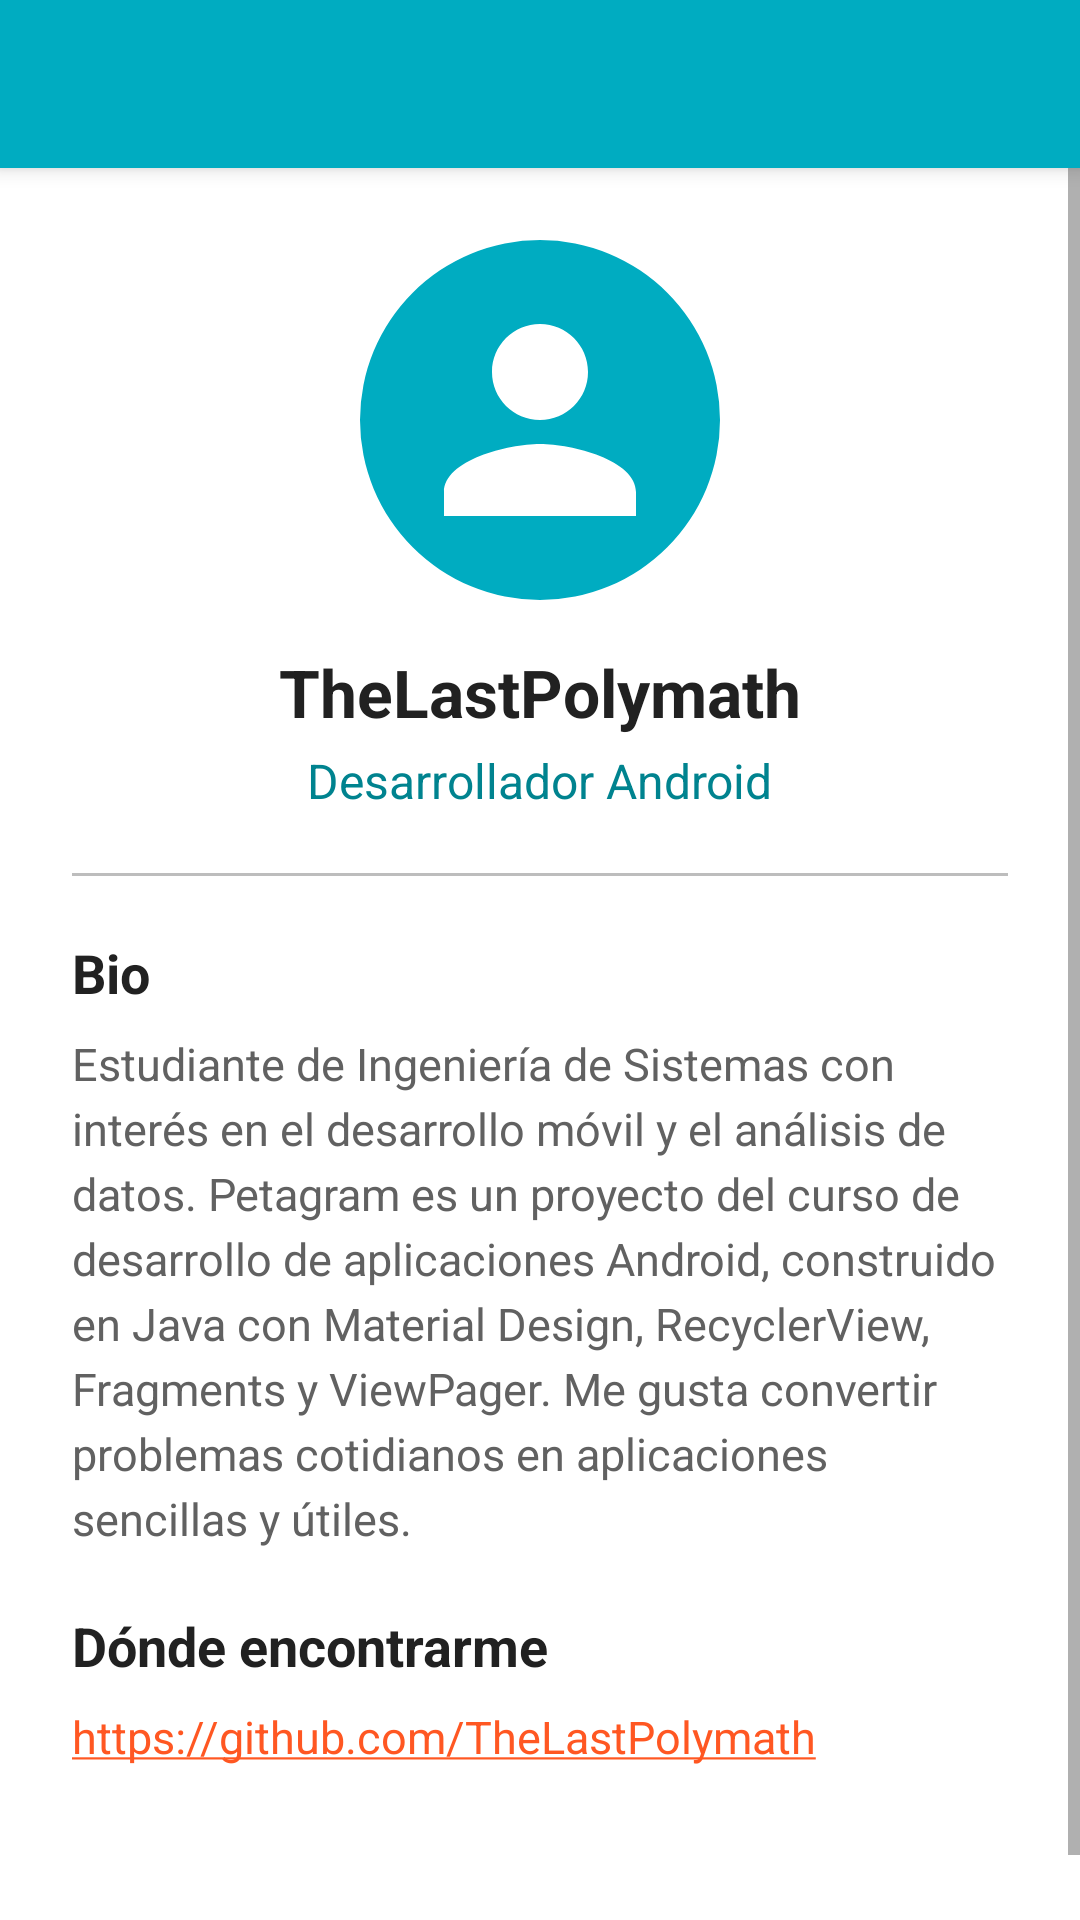

Point at icon controls on the screen. Image size 1080px×1920px, points as [x,y].
Foto del desarrollador: [540,420]
